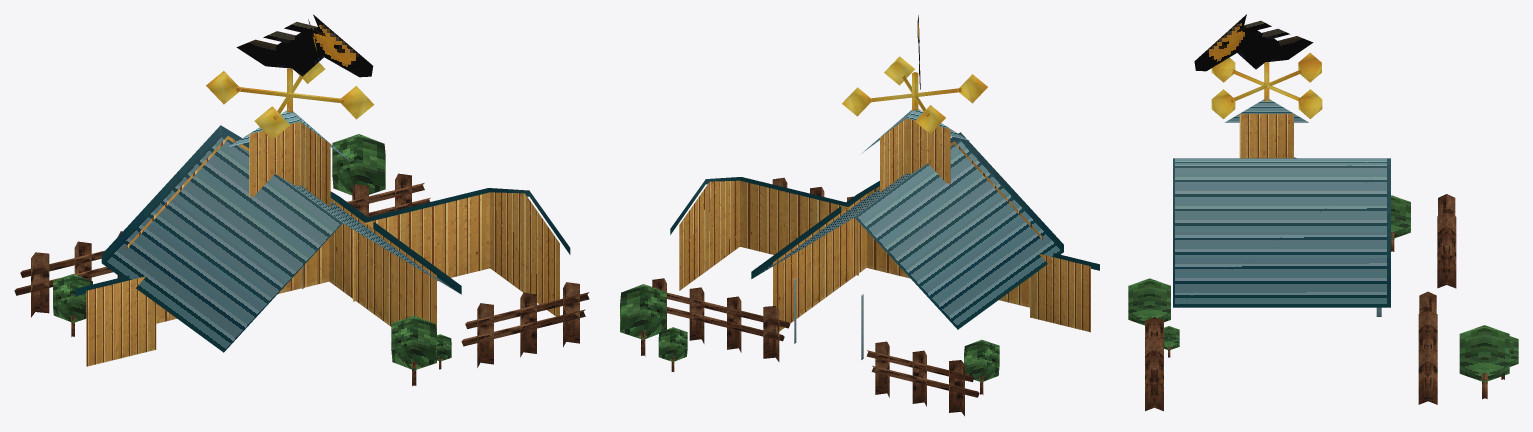
Rendered from ps2_save-icons_winningpost4maximum2001-story.glb.
3 views of the same model, side by side, from view 1: azimuth 30°, elevation 25°; view 2: azimuth 150°, elevation 25°; view 3: azimuth 270°, elevation 25° (orthographic). The views are drawn at different scales.
Parts seen in each view (by area): view 1: wp4ps2.ico; view 2: wp4ps2.ico; view 3: wp4ps2.ico.
Part boxes in pixels (x1,y1,x2,y2): wp4ps2.ico: (14,14,589,386); wp4ps2.ico: (620,15,1099,416); wp4ps2.ico: (1128,14,1518,411).
Size of the model in its own units: 4.82 by 3.81 by 4.42.
1 material, 1 textured.
